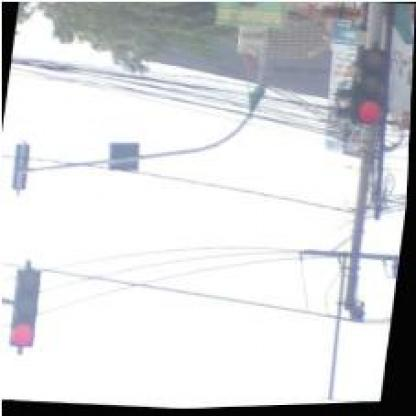red: (8, 266, 43, 350), (353, 50, 391, 126)
